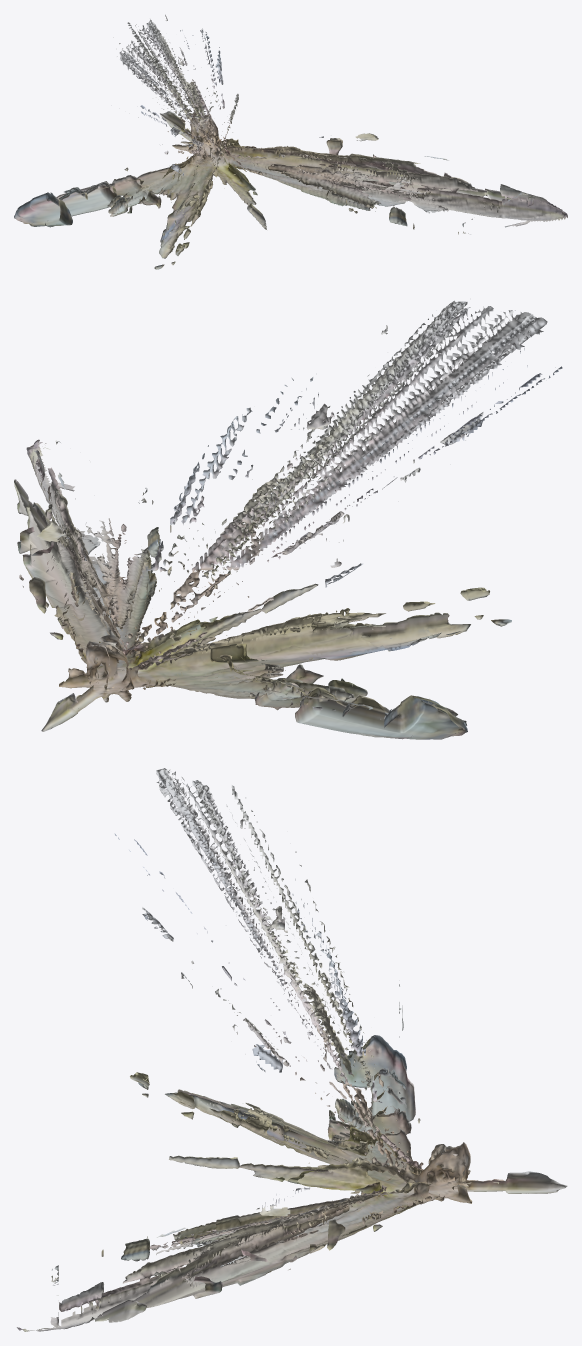
The model's file is sunlit-palace-gardens-collider.glb.
3 views of the same model, one above another, from view 1: azimuth 30°, elevation 25°; view 2: azimuth 150°, elevation 25°; view 3: azimuth 270°, elevation 25° (orthographic). The views are drawn at different scales.
Parts seen in each view (by area): view 1: world; view 2: world; view 3: world.
Boxes of the visible parts, left/top/right/bottom form: world: left=14, top=14, right=567, bottom=269; world: left=14, top=300, right=562, bottom=739; world: left=17, top=768, right=567, bottom=1331.
Bounding box in the file's own units: 196 × 107 × 163.
